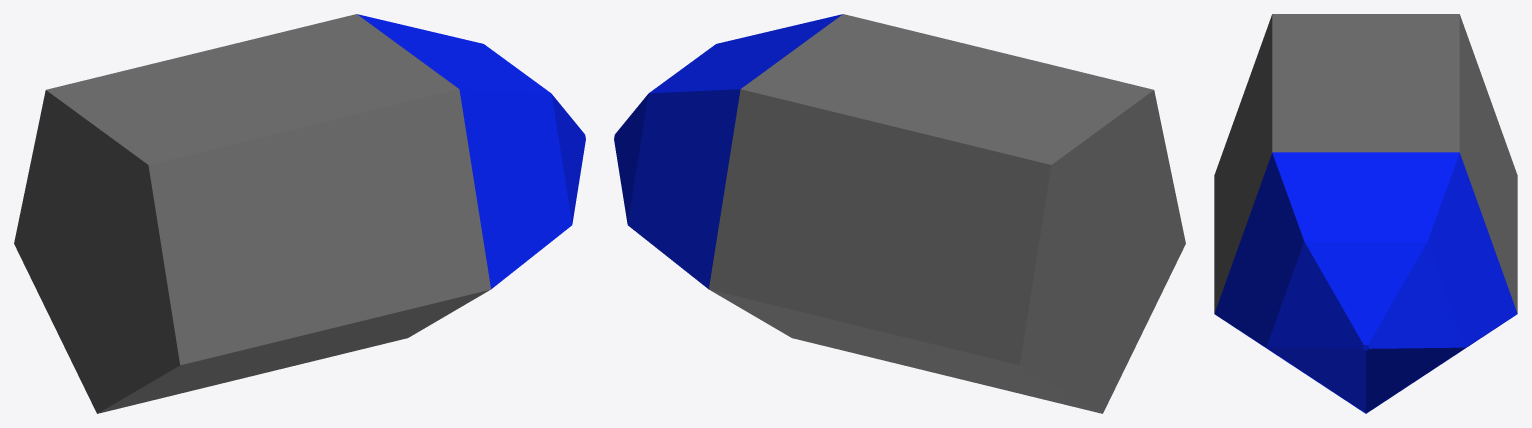
The model's file is Revolver bullet blue.FBX.
3 renders of one model, left to right at view 1: azimuth 30°, elevation 25°; view 2: azimuth 150°, elevation 25°; view 3: azimuth 270°, elevation 25°, orthographic. The views are drawn at different scales.
Visible parts, largest first — view 1: Revolver bullet, Object001; view 2: Revolver bullet, Object001; view 3: Object001, Revolver bullet.
Part boxes in pixels (x1,y1,x2,y2): Revolver bullet: (14, 14, 490, 413); Object001: (357, 14, 585, 289); Revolver bullet: (709, 14, 1185, 413); Object001: (614, 14, 842, 289); Object001: (1214, 152, 1517, 413); Revolver bullet: (1214, 14, 1517, 313).
Bounding box in the file's own units: 5.53 × 3.11 × 3.27.
